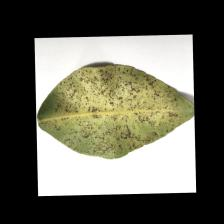canker: (72, 75, 148, 145)
